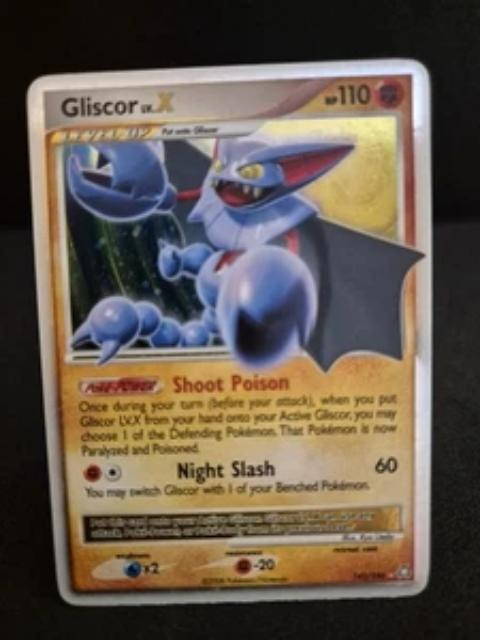Card: (23, 54, 437, 611)
Name: (56, 86, 183, 124)
